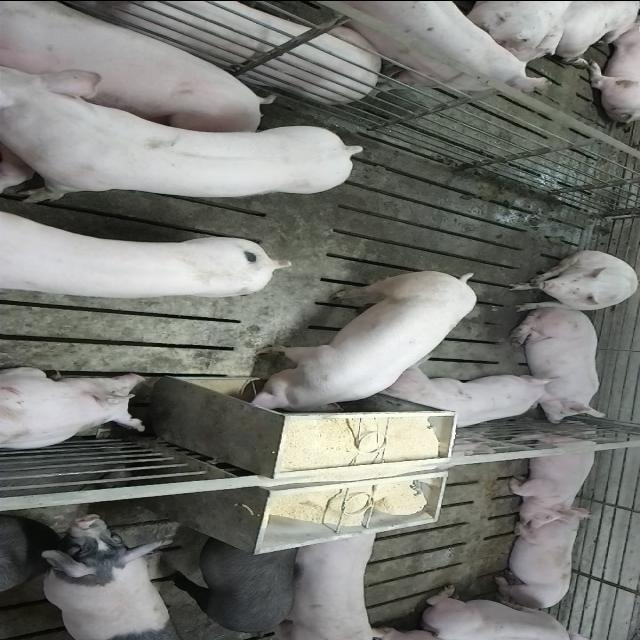Feeding: (246, 264, 479, 410)
Lateral_lying: (0, 0, 268, 129), (49, 0, 382, 100)
Sitting: (504, 250, 638, 312)
Standing: (4, 68, 364, 206), (0, 215, 286, 302), (306, 0, 546, 91), (34, 512, 174, 638), (168, 530, 304, 637), (272, 521, 384, 637), (0, 512, 31, 605)
Sternal_lying: (0, 366, 150, 450), (378, 369, 560, 432), (509, 312, 608, 422), (490, 508, 590, 611), (418, 584, 604, 638), (506, 426, 604, 523)
